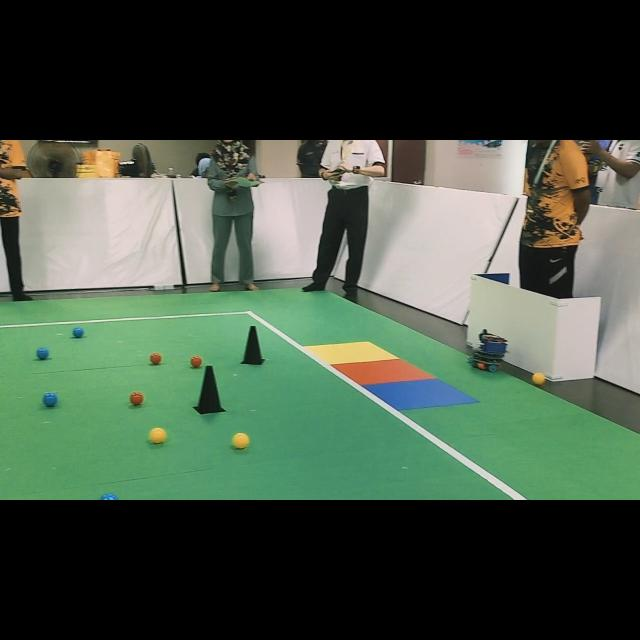ball: (232, 432, 249, 449), (150, 428, 166, 444), (42, 392, 59, 407), (130, 391, 145, 405), (531, 372, 546, 386), (36, 348, 50, 360), (190, 355, 202, 368), (150, 352, 162, 365), (100, 492, 118, 500), (72, 328, 84, 338)
goal: (365, 379, 478, 409), (334, 359, 434, 385), (305, 341, 399, 365)
